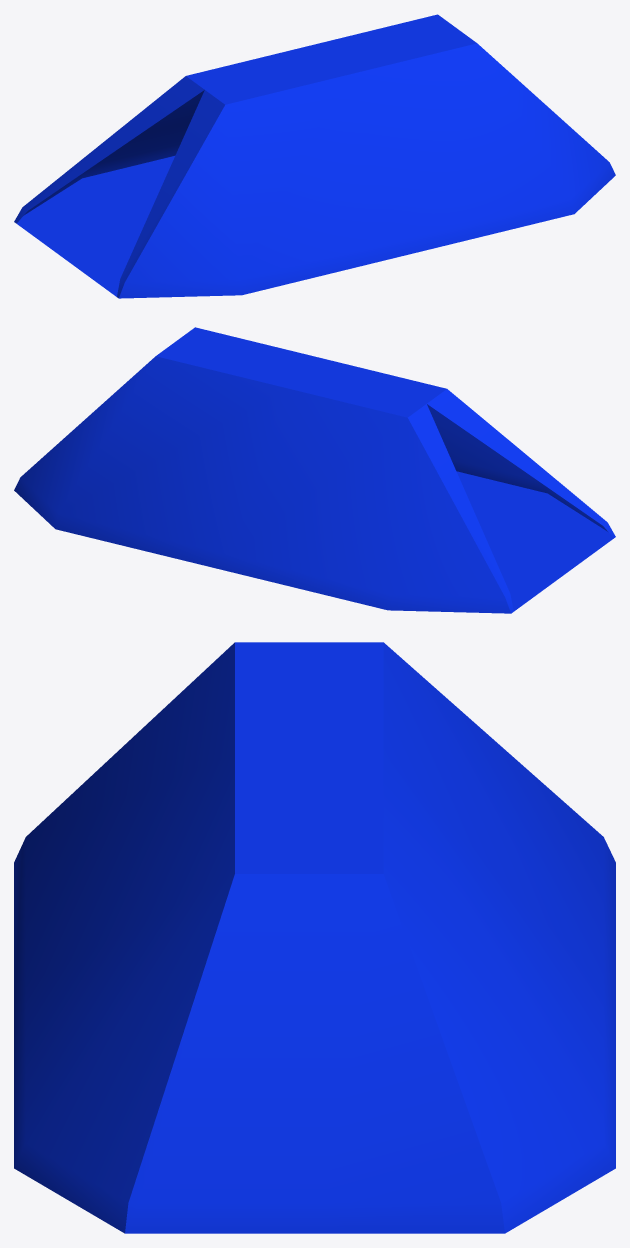
File: Tent04.FBX
3 views of the same model, one above another, from view 1: azimuth 30°, elevation 25°; view 2: azimuth 150°, elevation 25°; view 3: azimuth 270°, elevation 25° (orthographic). The views are drawn at different scales.
Parts seen in each view (by area): view 1: Box001; view 2: Box001; view 3: Box001.
Part boxes in pixels (bbox=[...]): Box001: bbox=[14, 14, 615, 298]; Box001: bbox=[14, 327, 615, 613]; Box001: bbox=[14, 642, 615, 1233].
Bounding box in the file's own units: 210 × 55.26 × 116.
